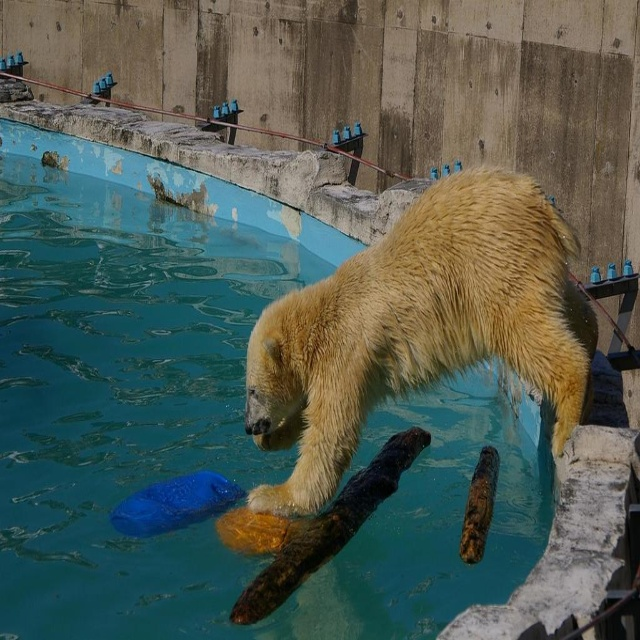Otter: (151, 138, 606, 549)
